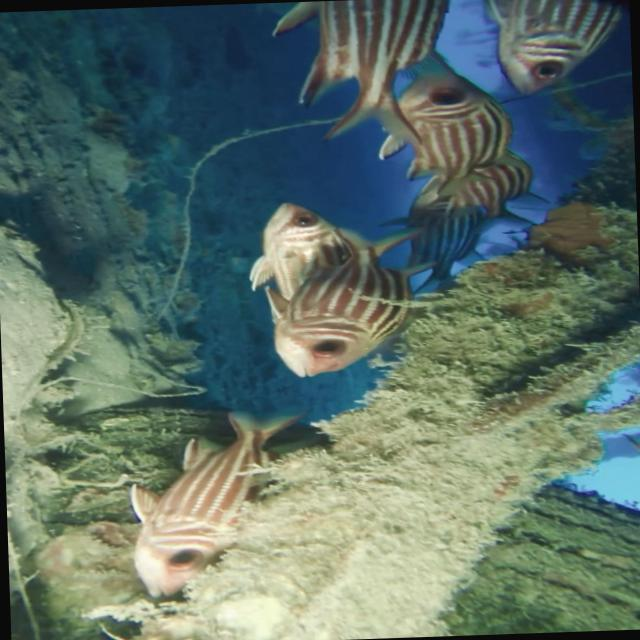Asker Baligi: (123, 406, 319, 598), (244, 195, 438, 379), (374, 82, 522, 196)
